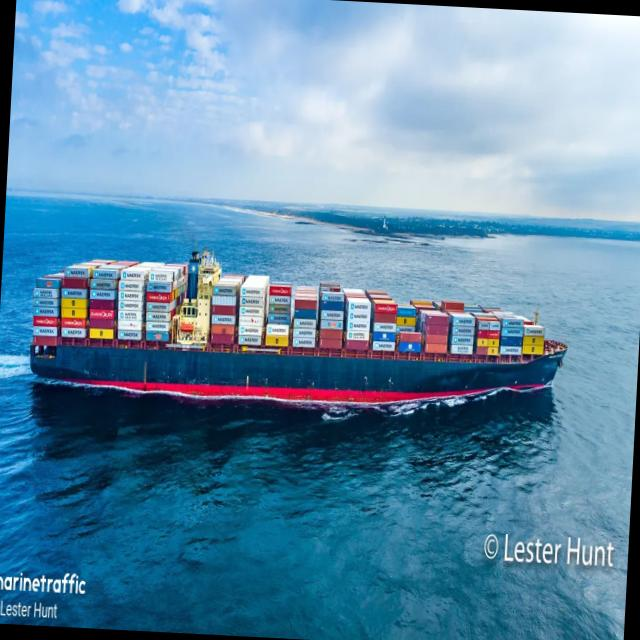Cargo: (30, 250, 567, 406)
